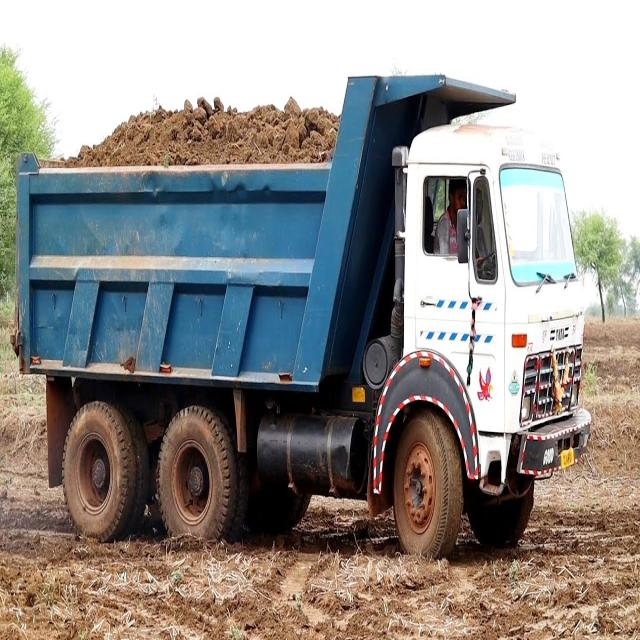goods: (60, 98, 339, 167)
truck: (14, 76, 590, 556)
